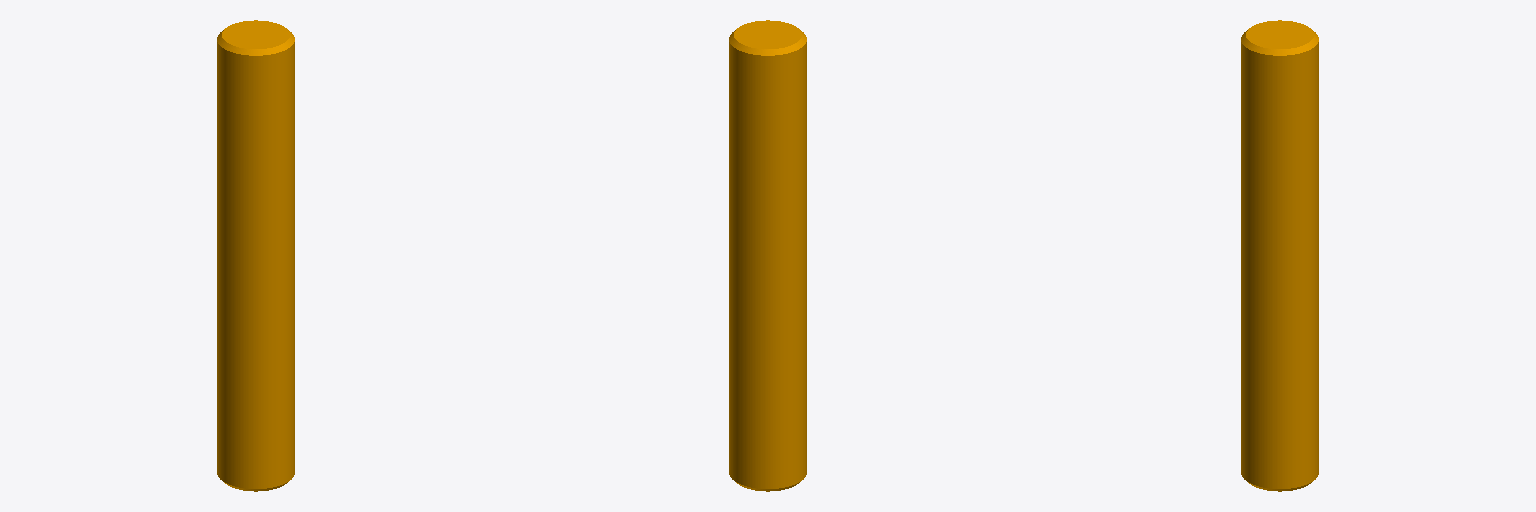
URDF robot description (factory_round_peg_8mm_tight):
<?xml version="1.0"?>
<robot name="factory_round_peg_8mm_tight">
    <link name="factory_round_peg_8mm_tight">
        <visual>
            <geometry>
                <mesh filename="../mesh/factory_insertion/factory_round_peg_8mm_tight.obj"/>
            </geometry>
        </visual>
        <collision>
            <geometry>
                <mesh filename="../mesh/factory_insertion/factory_round_peg_8mm_tight.obj"/>
            </geometry>
            <sdf resolution="256"/>
        </collision>
    </link>
</robot>

--- Render facts (derived) ---
The picture shows the robot from 3 angles, left to right: view 1: azimuth 30°, elevation 25°; view 2: azimuth 150°, elevation 25°; view 3: azimuth 270°, elevation 25°; orthographic projection.
Robot: factory_round_peg_8mm_tight — 1 links, 0 joints (none); root link factory_round_peg_8mm_tight; default pose: every joint at zero.
Links seen in each view (by area): view 1: factory_round_peg_8mm_tight; view 2: factory_round_peg_8mm_tight; view 3: factory_round_peg_8mm_tight.
Boxes of the visible links, x1,y1,x2,y2 form: factory_round_peg_8mm_tight: [217, 20, 294, 491]; factory_round_peg_8mm_tight: [729, 20, 806, 491]; factory_round_peg_8mm_tight: [1241, 20, 1318, 491].
Size in the robot's own frame: 0.008 by 0.008 by 0.05 metres.
Meshes: 1 distinct files referenced, 1 mesh visuals loaded (1 OBJ).